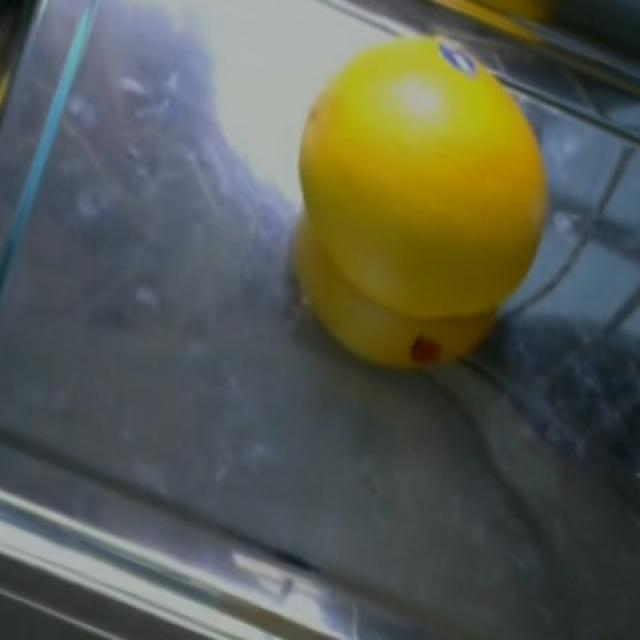Fruit: (269, 14, 567, 395)
